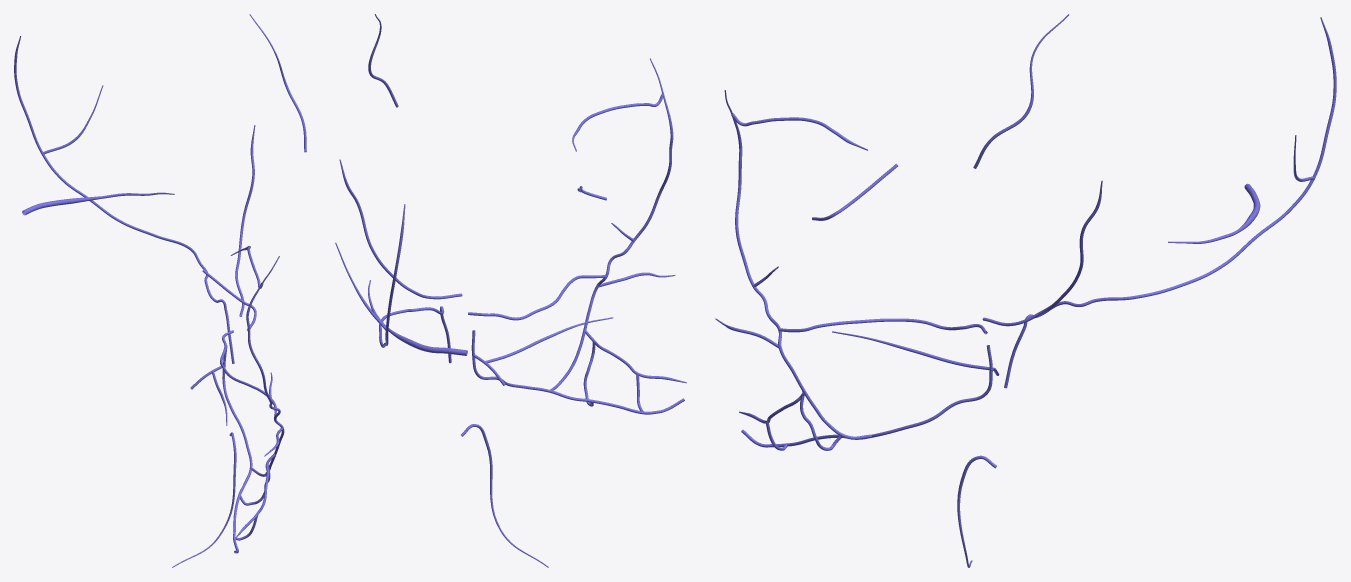
File: Facial_veins.l_BezierCurve.462.glb
3 renders of one model, left to right at view 1: azimuth 30°, elevation 25°; view 2: azimuth 150°, elevation 25°; view 3: azimuth 270°, elevation 25°, orthographic. The views are drawn at different scales.
Visible parts, largest first — view 1: Facial_veins.l_BezierCurve.462; view 2: Facial_veins.l_BezierCurve.462; view 3: Facial_veins.l_BezierCurve.462.
Boxes of the visible parts, x1,y1,x2,y2 form: Facial_veins.l_BezierCurve.462: (14,14,306,567); Facial_veins.l_BezierCurve.462: (335,14,686,567); Facial_veins.l_BezierCurve.462: (715,14,1336,567).
Size of the model in its own units: 0.0792 by 0.2105 by 0.1918.
